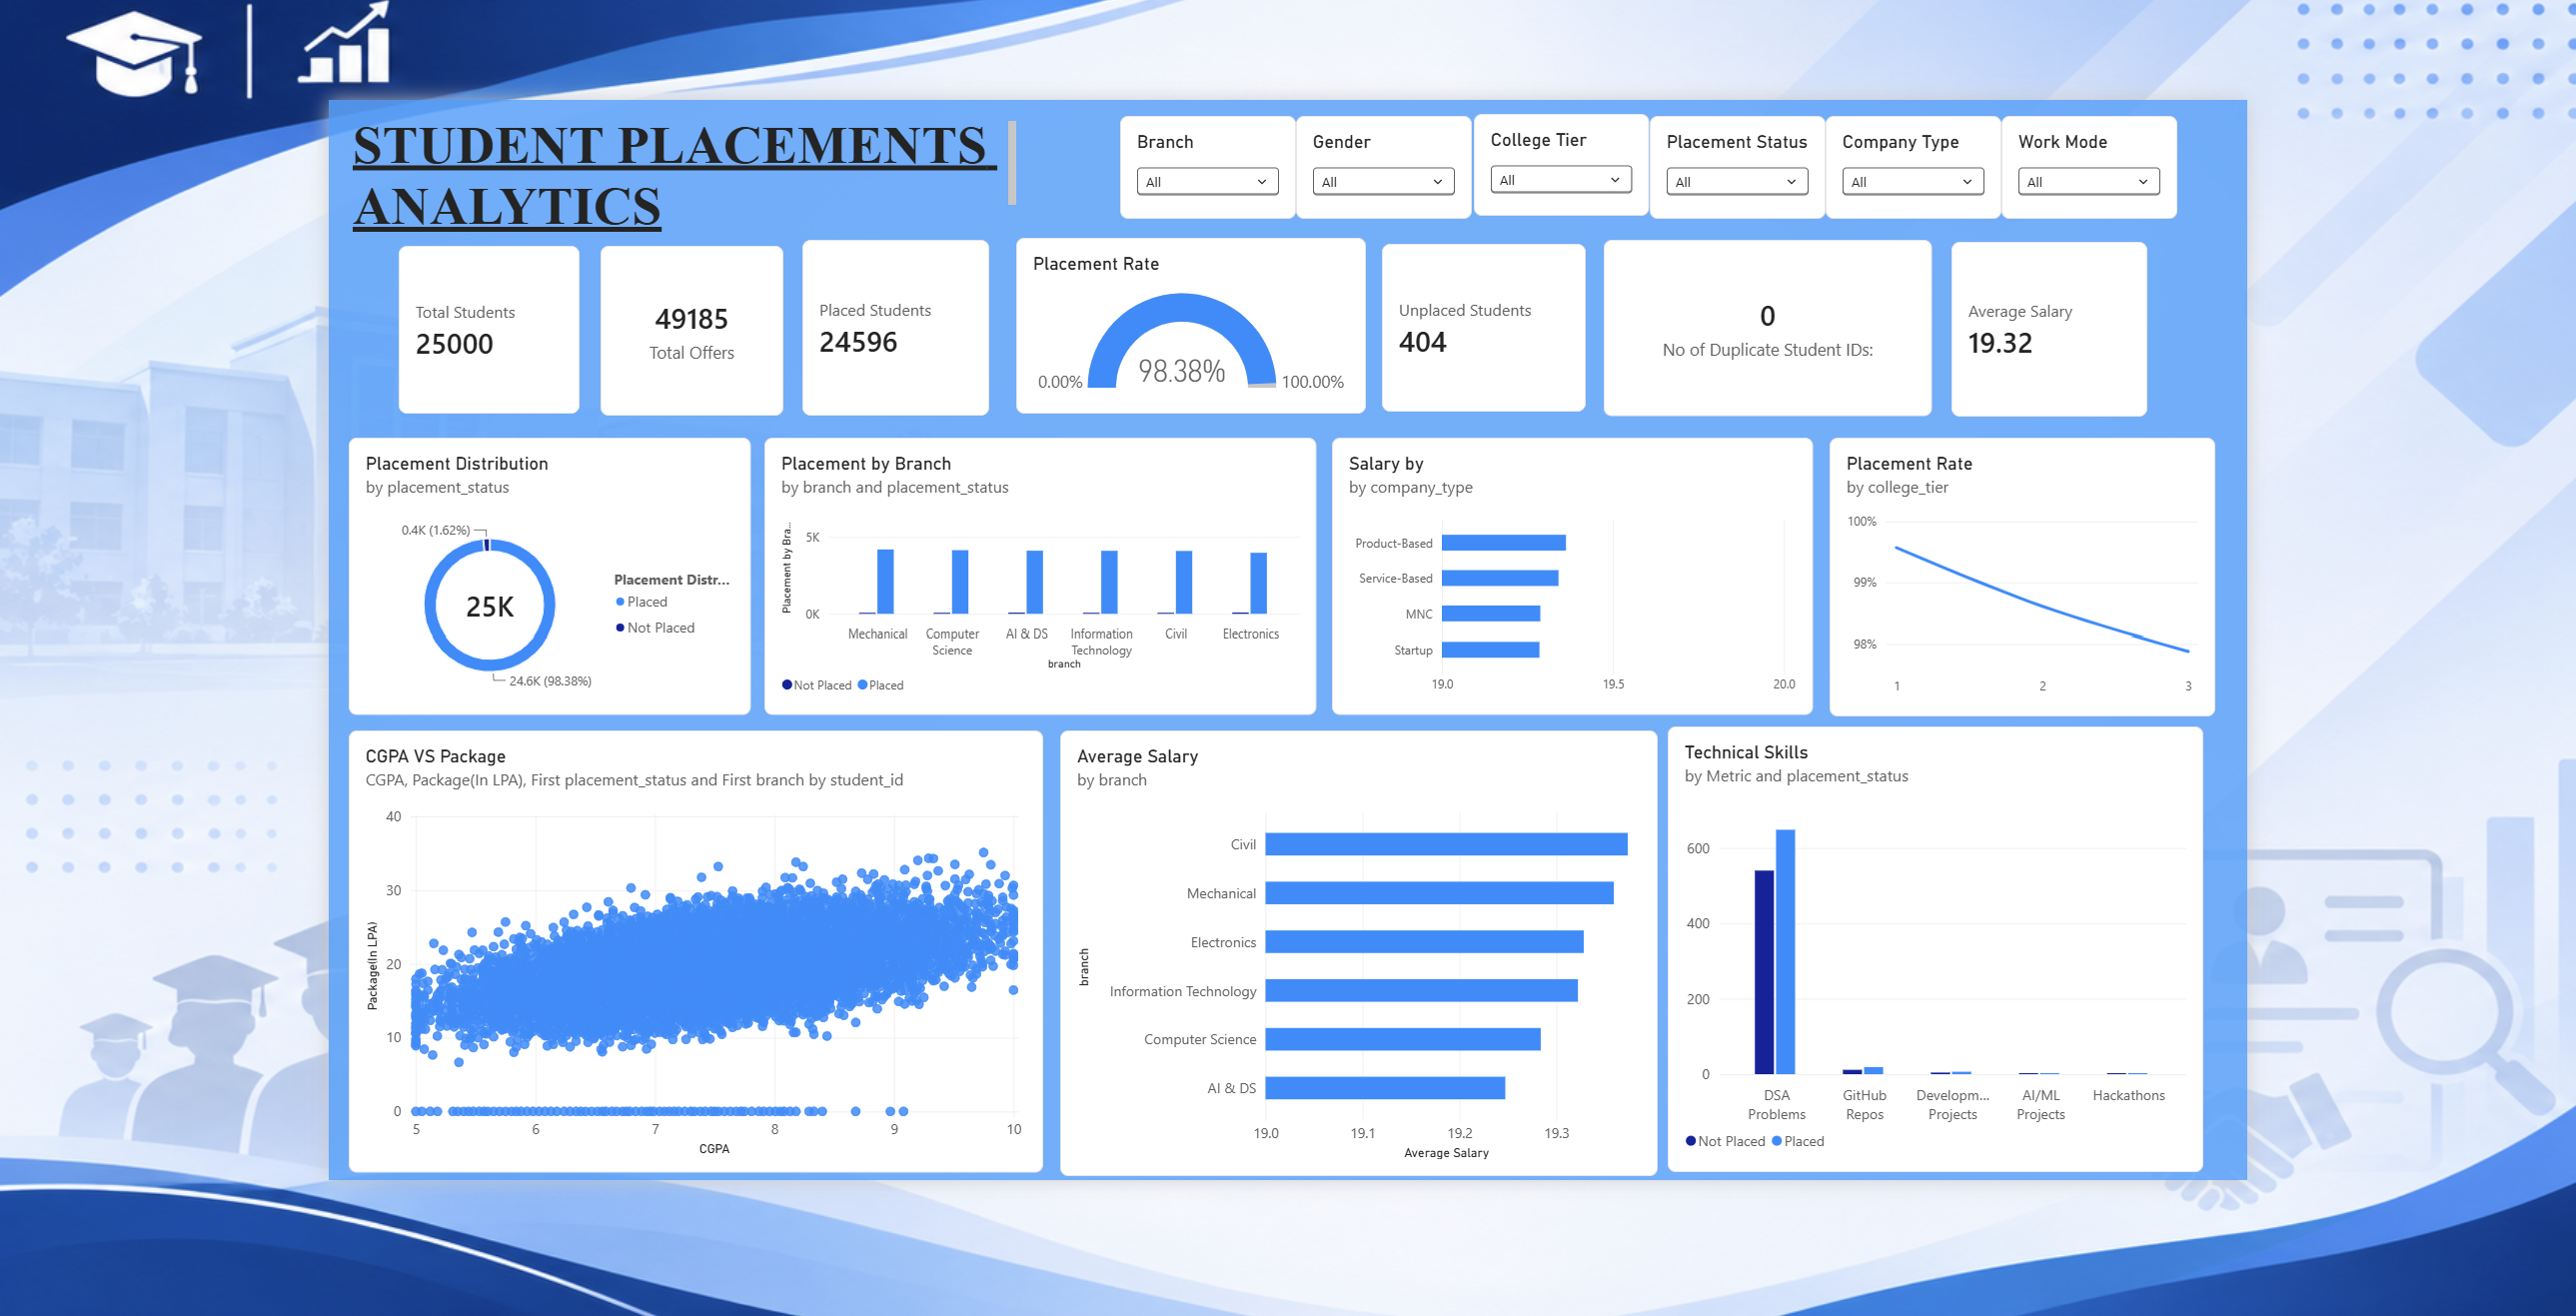

What the dashboard file says about the page in this screenshot:
{"tool":"powerbi","page":{"name":"Student Placements Overview","canvas":[1920,1080],"ordinal":0},"visuals":[{"type":"card","fields":{"Values":["student_placement_career_success_dataset.DuplicateIDs"]},"box":[1165,18.3,173.3,113.3],"z":0,"group":"g1"},{"type":"clusteredBarChart","fields":{"Category":["student_placement_career_success_dataset.branch"],"Y":["student_placement_career_success_dataset.Average Salary"]},"box":[726,492,598,446],"z":0},{"type":"card","fields":{"Values":["student_placement_career_success_dataset.Total Offers"]},"box":[1338.3,18.3,155,113.3],"z":1000,"group":"g1"},{"type":"lineChart","fields":{"Category":["student_placement_career_success_dataset.college_tier"],"Y":["student_placement_career_success_dataset.Placement Rate"]},"box":[1510,156,386,278],"z":1000},{"type":"cardVisual","fields":{"Data":["student_placement_career_success_dataset.Placed Students"]},"box":[1493.3,18.3,136.7,113.3],"z":2000,"group":"g1"},{"type":"clusteredBarChart","fields":{"Category":["student_placement_career_success_dataset.company_type"],"Y":["student_placement_career_success_dataset.Average Salary"]},"box":[1012,156,481.2,276.2],"z":2000},{"type":"group","id":"g1","title":"Group 1","box":[1025,18.3,770,113.3],"z":3000},{"type":"cardVisual","fields":{"Data":["student_placement_career_success_dataset.Unplaced Students"]},"box":[1630,18.3,165,113.3],"z":3000,"group":"g1"},{"type":"textbox","box":[23.3,18.3,936.7,113.3],"z":4000},{"type":"cardVisual","fields":{"Data":["student_placement_career_success_dataset.Total Students"]},"box":[1025,18.3,140,113.3],"z":4000,"group":"g1"},{"type":"donutChart","fields":{"Category":["student_placement_career_success_dataset.placement_status"],"Y":["CountNonNull(student_placement_career_success_dataset.placement_status)"]},"box":[23.8,156.2,402.5,276.2],"z":5000},{"type":"clusteredColumnChart","fields":{"Category":["student_placement_career_success_dataset.branch"],"Series":["student_placement_career_success_dataset.placement_status"],"Y":["CountNonNull(student_placement_career_success_dataset.student_id)"]},"box":[443.8,156.2,552.5,276.2],"z":6000},{"type":"scatterChart","title":"CGPA VS Package","fields":{"Category":["student_placement_career_success_dataset.student_id"],"X":["Sum(student_placement_career_success_dataset.cgpa)"],"Y":["Sum(student_placement_career_success_dataset.salary_lpa)"]},"box":[0,495,720,441.2],"z":7000},{"type":"clusteredColumnChart","fields":{"Category":["Technical Metrics.Metric"],"Series":["student_placement_career_success_dataset.placement_status"],"Y":["student_placement_career_success_dataset.Technical Skills"]},"box":[1340,492,536,446],"z":8000}]}

Visuals, with their boxes on the page's 1920x1080 design canvas (x1, y1, x2, y2). These are canvas units, not pixel positions in the 2576x1316 screenshot, which may show the page scaled, cropped or inside an application window:
card - student_placement_career_success_dataset.DuplicateIDs: rect(1165, 18, 1338, 132)
clusteredBarChart - student_placement_career_success_dataset.branch x student_placement_career_success_dataset.Average Salary: rect(726, 492, 1324, 938)
card - student_placement_career_success_dataset.Total Offers: rect(1338, 18, 1493, 132)
lineChart - student_placement_career_success_dataset.college_tier x student_placement_career_success_dataset.Placement Rate: rect(1510, 156, 1896, 434)
cardVisual - student_placement_career_success_dataset.Placed Students: rect(1493, 18, 1630, 132)
clusteredBarChart - student_placement_career_success_dataset.company_type x student_placement_career_success_dataset.Average Salary: rect(1012, 156, 1493, 432)
"Group 1" group: rect(1025, 18, 1795, 132)
cardVisual - student_placement_career_success_dataset.Unplaced Students: rect(1630, 18, 1795, 132)
textbox: rect(23, 18, 960, 132)
cardVisual - student_placement_career_success_dataset.Total Students: rect(1025, 18, 1165, 132)
donutChart - student_placement_career_success_dataset.placement_status x CountNonNull(student_placement_career_success_dataset.placement_status): rect(24, 156, 426, 432)
clusteredColumnChart - student_placement_career_success_dataset.branch x student_placement_career_success_dataset.placement_status: rect(444, 156, 996, 432)
"CGPA VS Package" scatterChart: rect(0, 495, 720, 936)
clusteredColumnChart - Technical Metrics.Metric x student_placement_career_success_dataset.placement_status: rect(1340, 492, 1876, 938)
